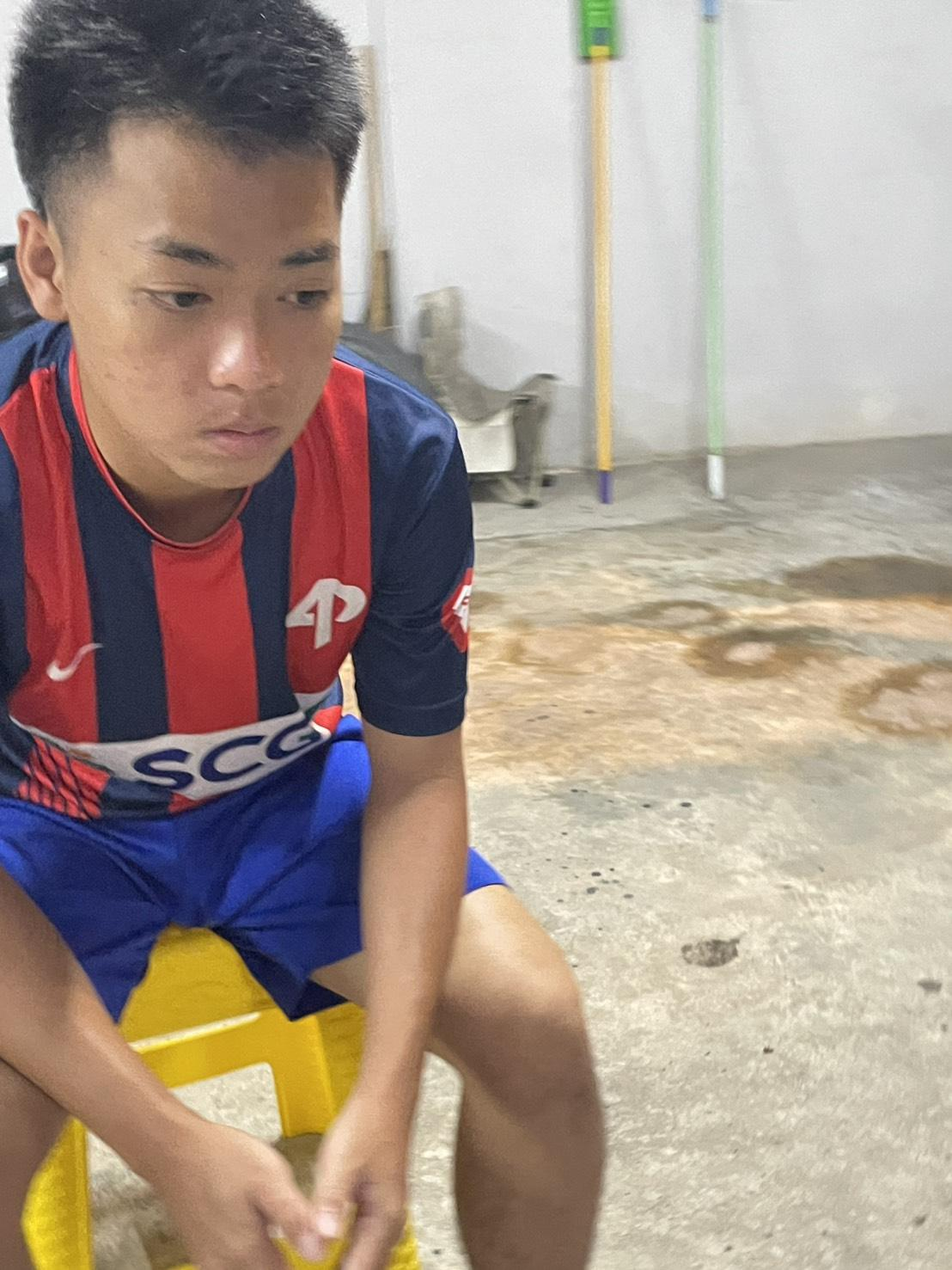BadPosture: (0, 0, 474, 818)
